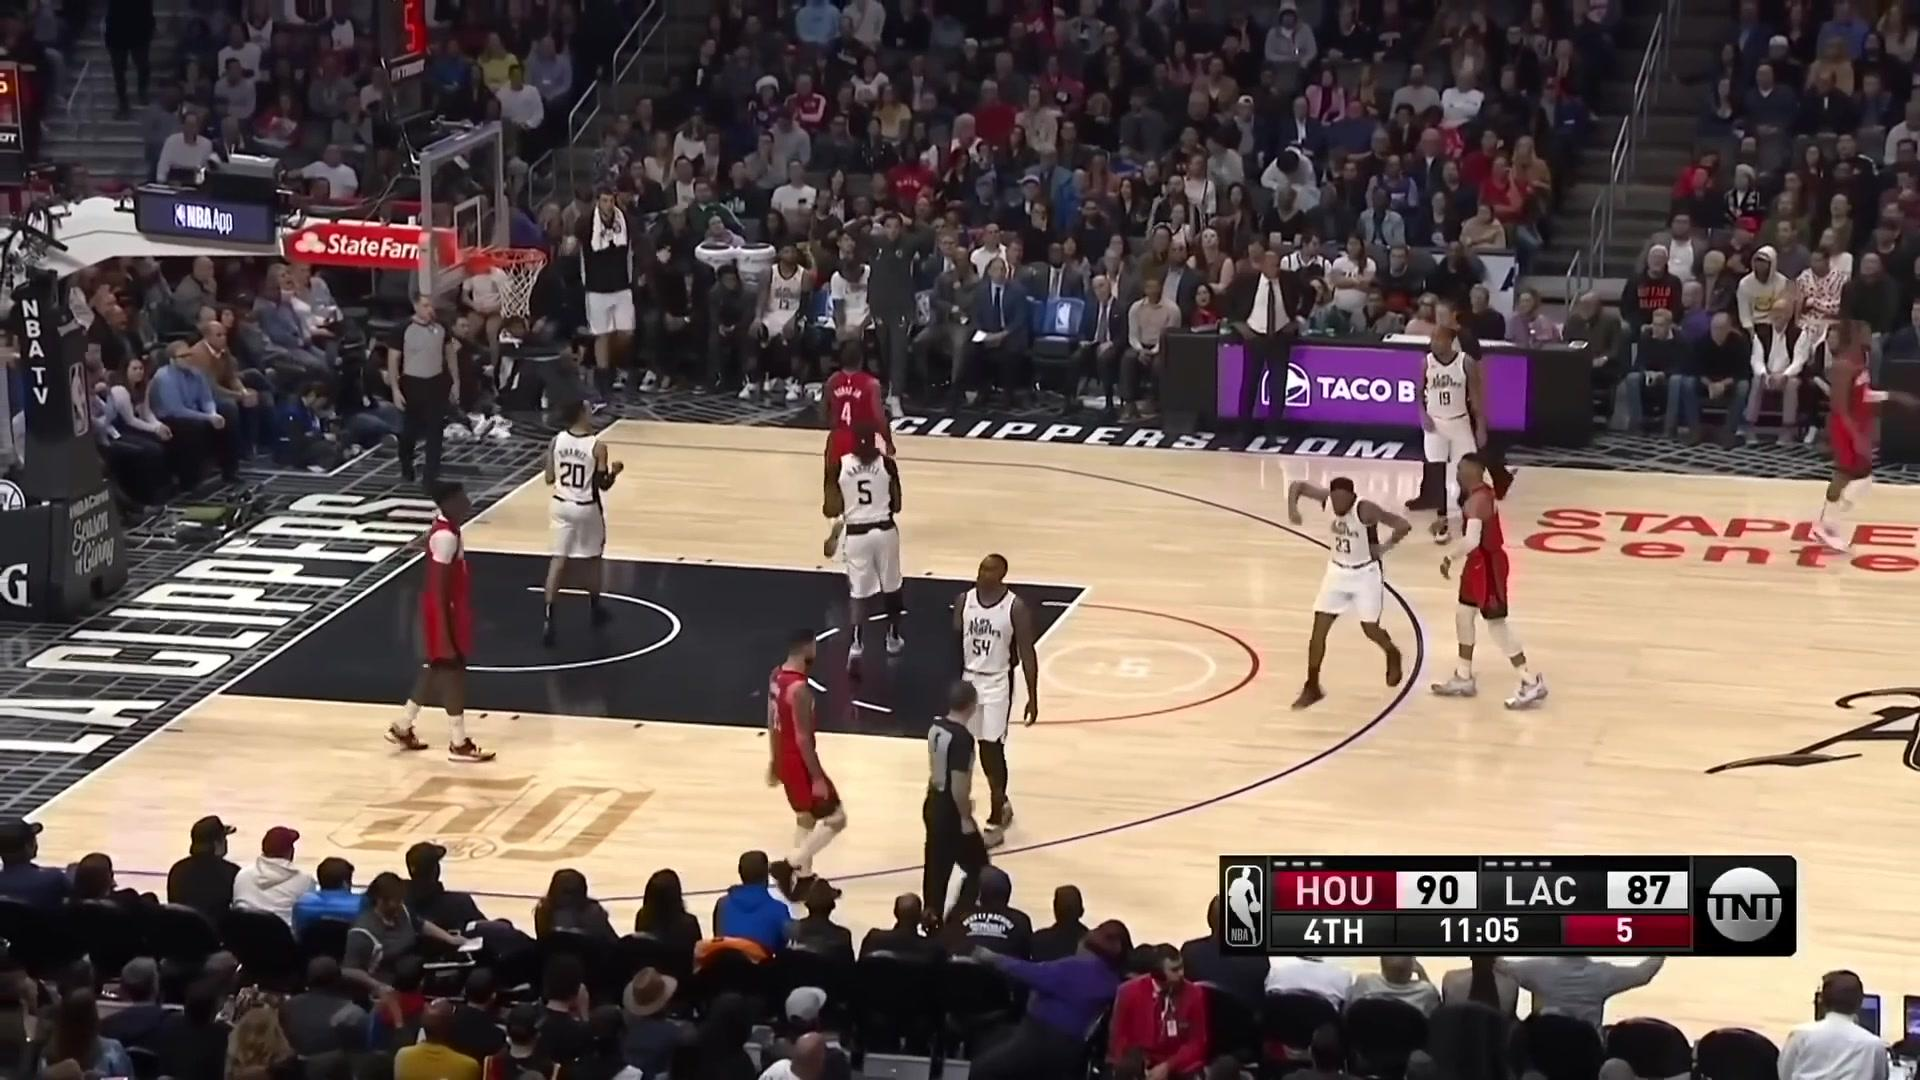no_foul: (1270, 467, 1589, 756)
